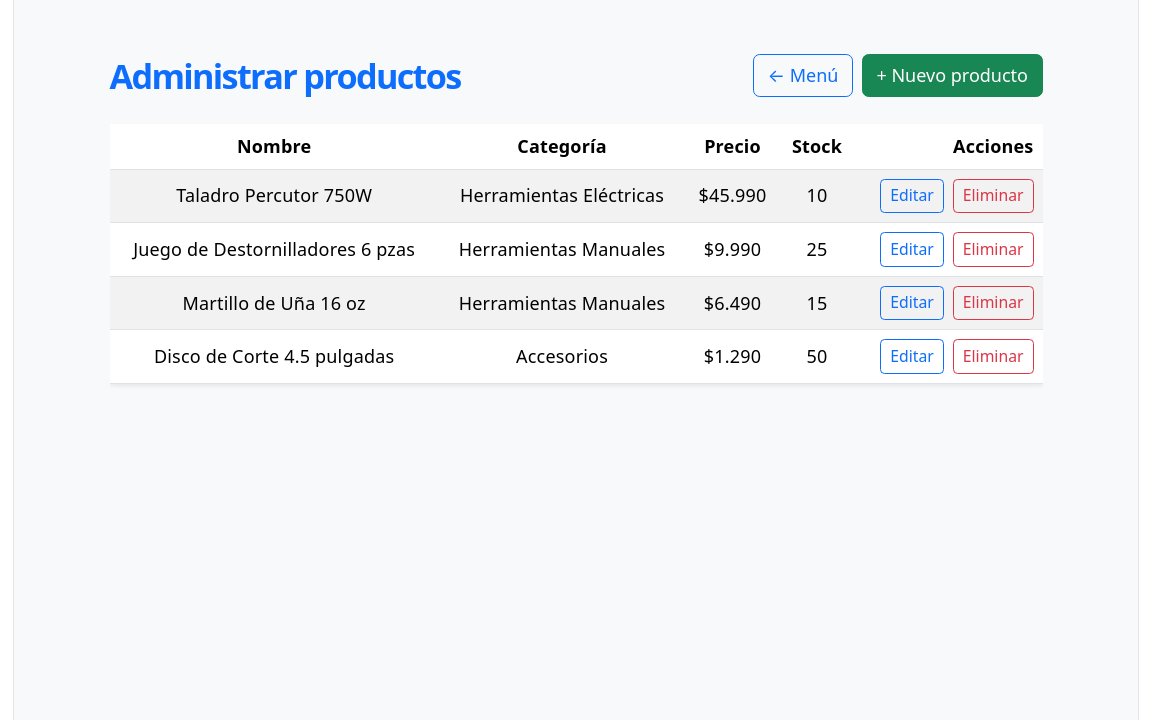
Test: AdminProductos (página) › elimina un producto cuando se confirma
This screenshot has width=1152, height=720.
Click the button "Eliminar" in the row of "Taladro Percutor 750W" at [993, 196], box [953,178,1034,213]
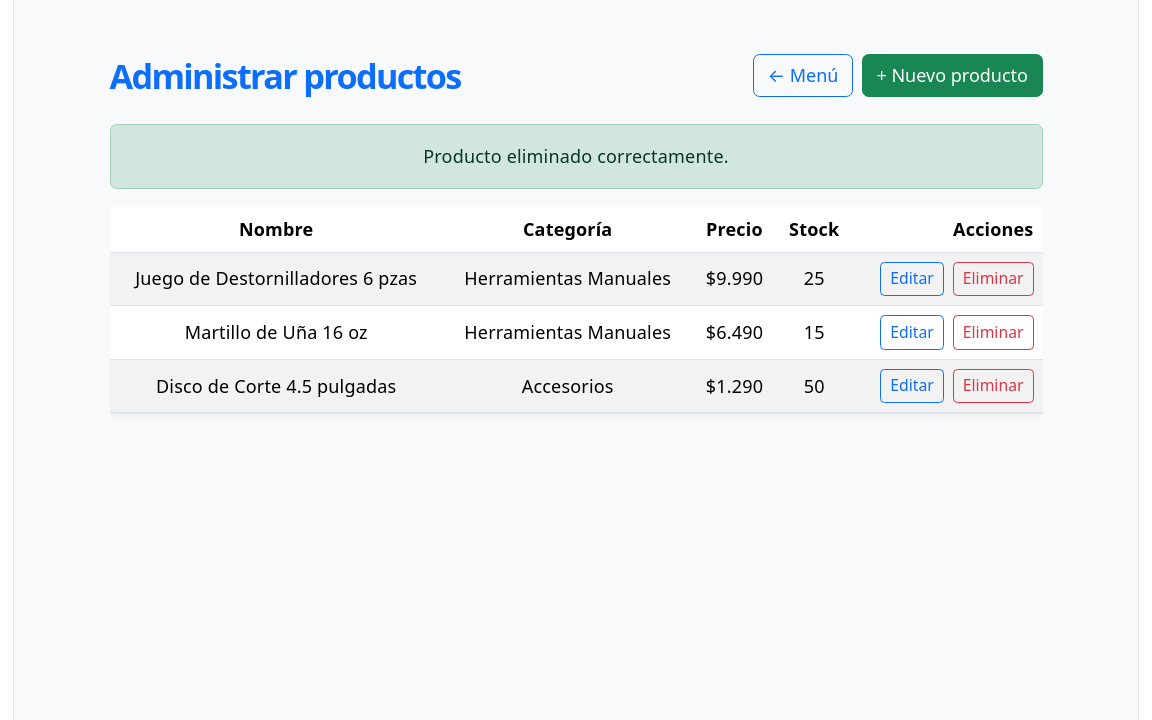
Check: the text "Producto eliminado correctamente." is shown, box [110,124,1042,188]
Check: the number of buttons "Eliminar" is 3, box [953,262,1034,296]; [953,315,1034,350]; [953,369,1034,403]
